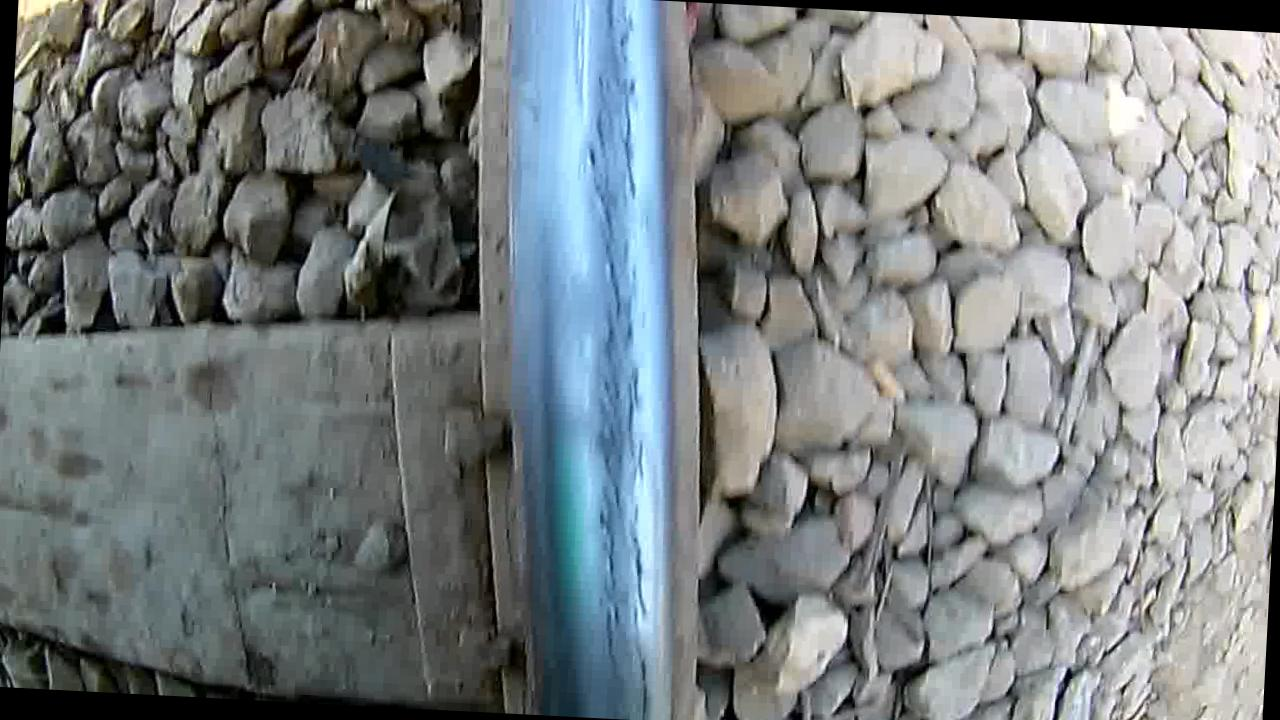normal_track: (548, 0, 684, 720)
